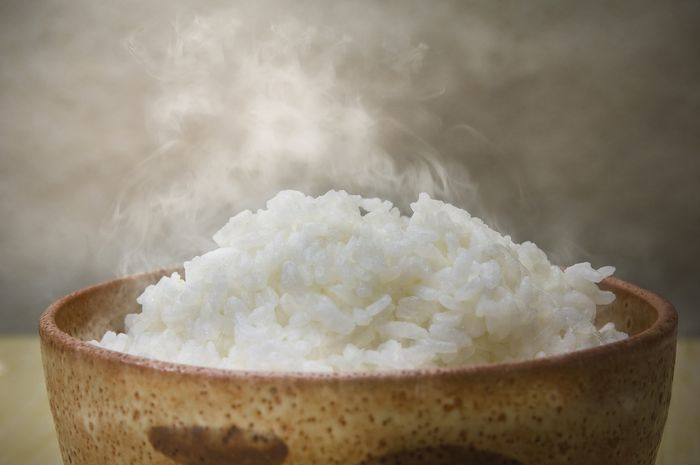Nasi Putih: (85, 172, 586, 417)
